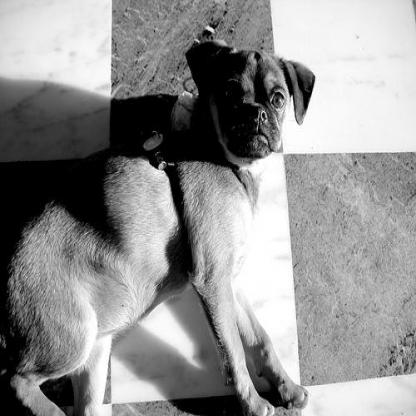Brabancon_griffon: (1, 36, 314, 414)
